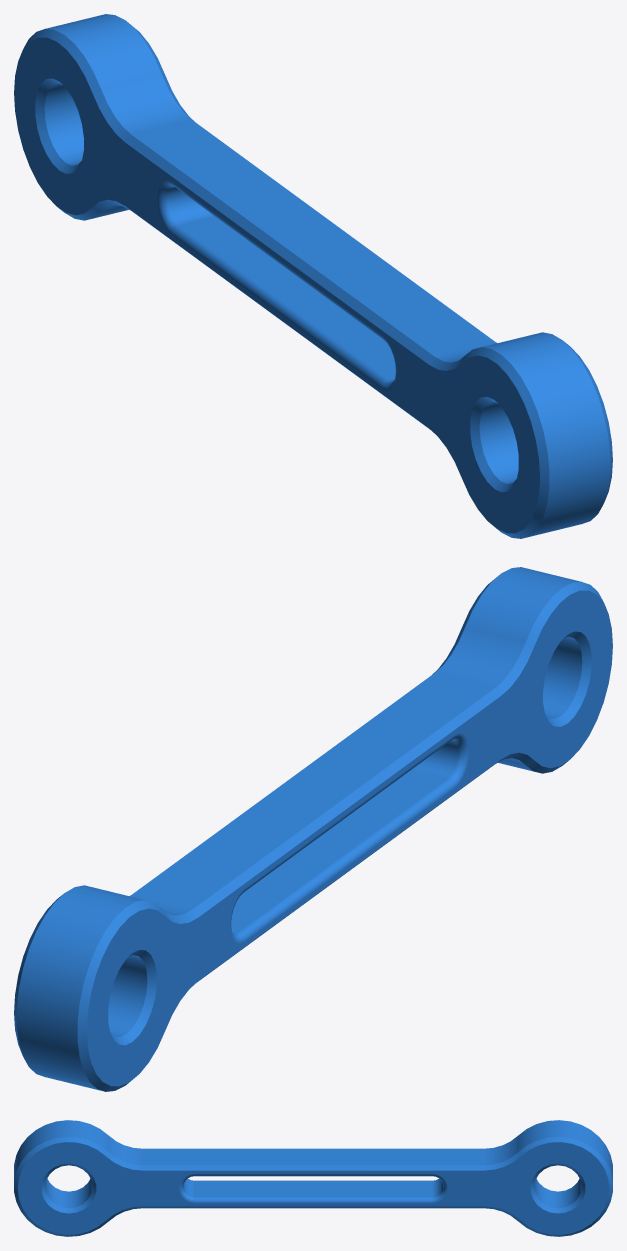
3 views of the same model, one above another, from view 1: azimuth 30°, elevation 25°; view 2: azimuth 150°, elevation 25°; view 3: azimuth 270°, elevation 25° (orthographic). The views are drawn at different scales.
Parts seen in each view (by area): view 1: Solid1; view 2: Solid1; view 3: Solid1.
Part boxes in pixels (box(x1,y1,x2,y2)): Solid1: box(14, 14, 612, 538); Solid1: box(14, 567, 612, 1091); Solid1: box(14, 1120, 612, 1236).
Size of the model in its own units: 0.003 by 0.007 by 0.038.
